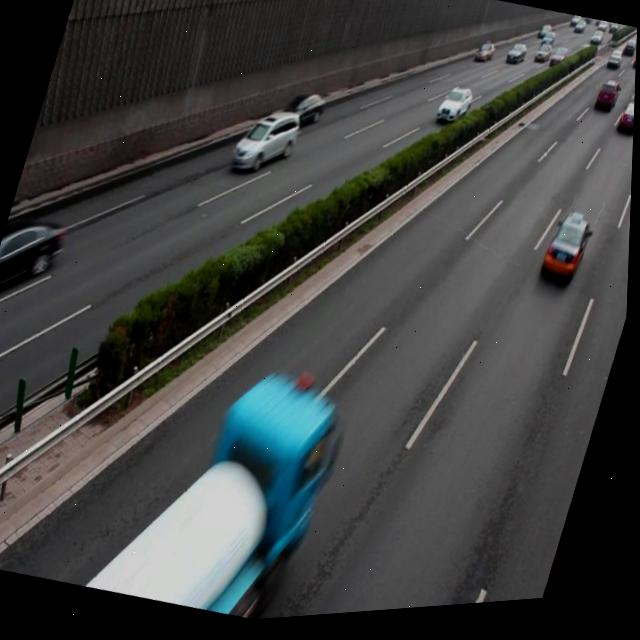bus: (66, 337, 350, 635)
car: (0, 206, 71, 302), (538, 217, 596, 296), (279, 90, 328, 137), (434, 86, 475, 134)
truck: (228, 103, 304, 188)
